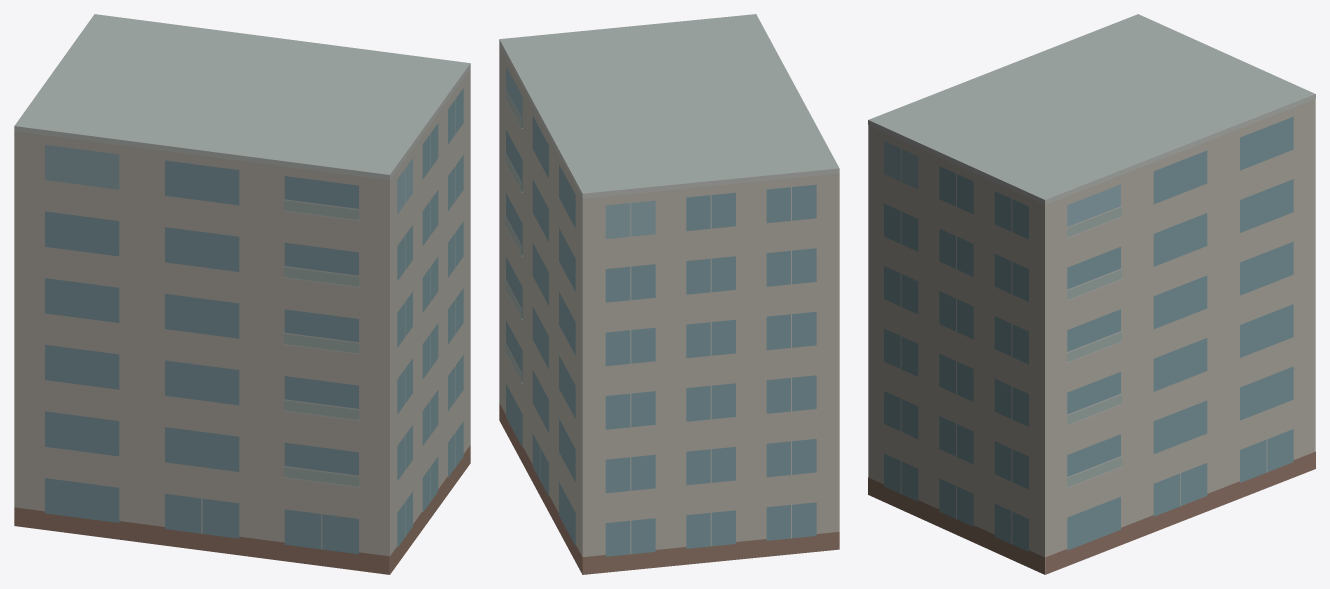
Rendered from survey-upis-32717237.glb.
3 renders of one model, left to right at view 1: azimuth 30°, elevation 25°; view 2: azimuth 150°, elevation 25°; view 3: azimuth 270°, elevation 25°, orthographic. The views are drawn at different scales.
Parts seen in each view (by area): view 1: survey-upis-32717237.tmp; view 2: survey-upis-32717237.tmp; view 3: survey-upis-32717237.tmp.
Part boxes in pixels (box(x1,y1,x2,y2)): survey-upis-32717237.tmp: box(14, 14, 470, 574); survey-upis-32717237.tmp: box(499, 14, 839, 574); survey-upis-32717237.tmp: box(868, 14, 1315, 574).
Size of the model in its own units: 19.48 by 18.3 by 19.81.
